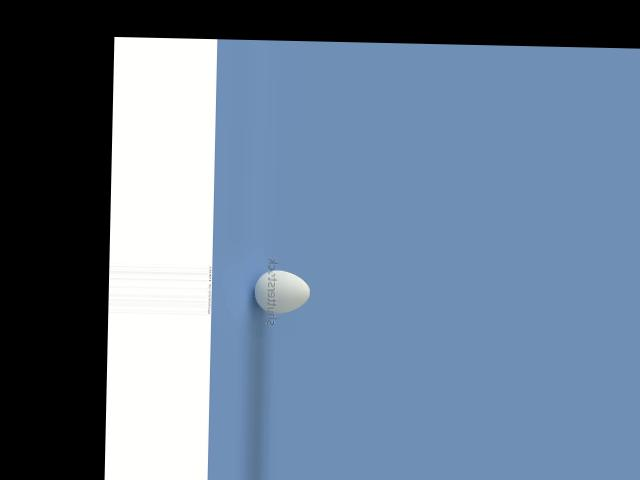egg: (253, 269, 310, 313)
